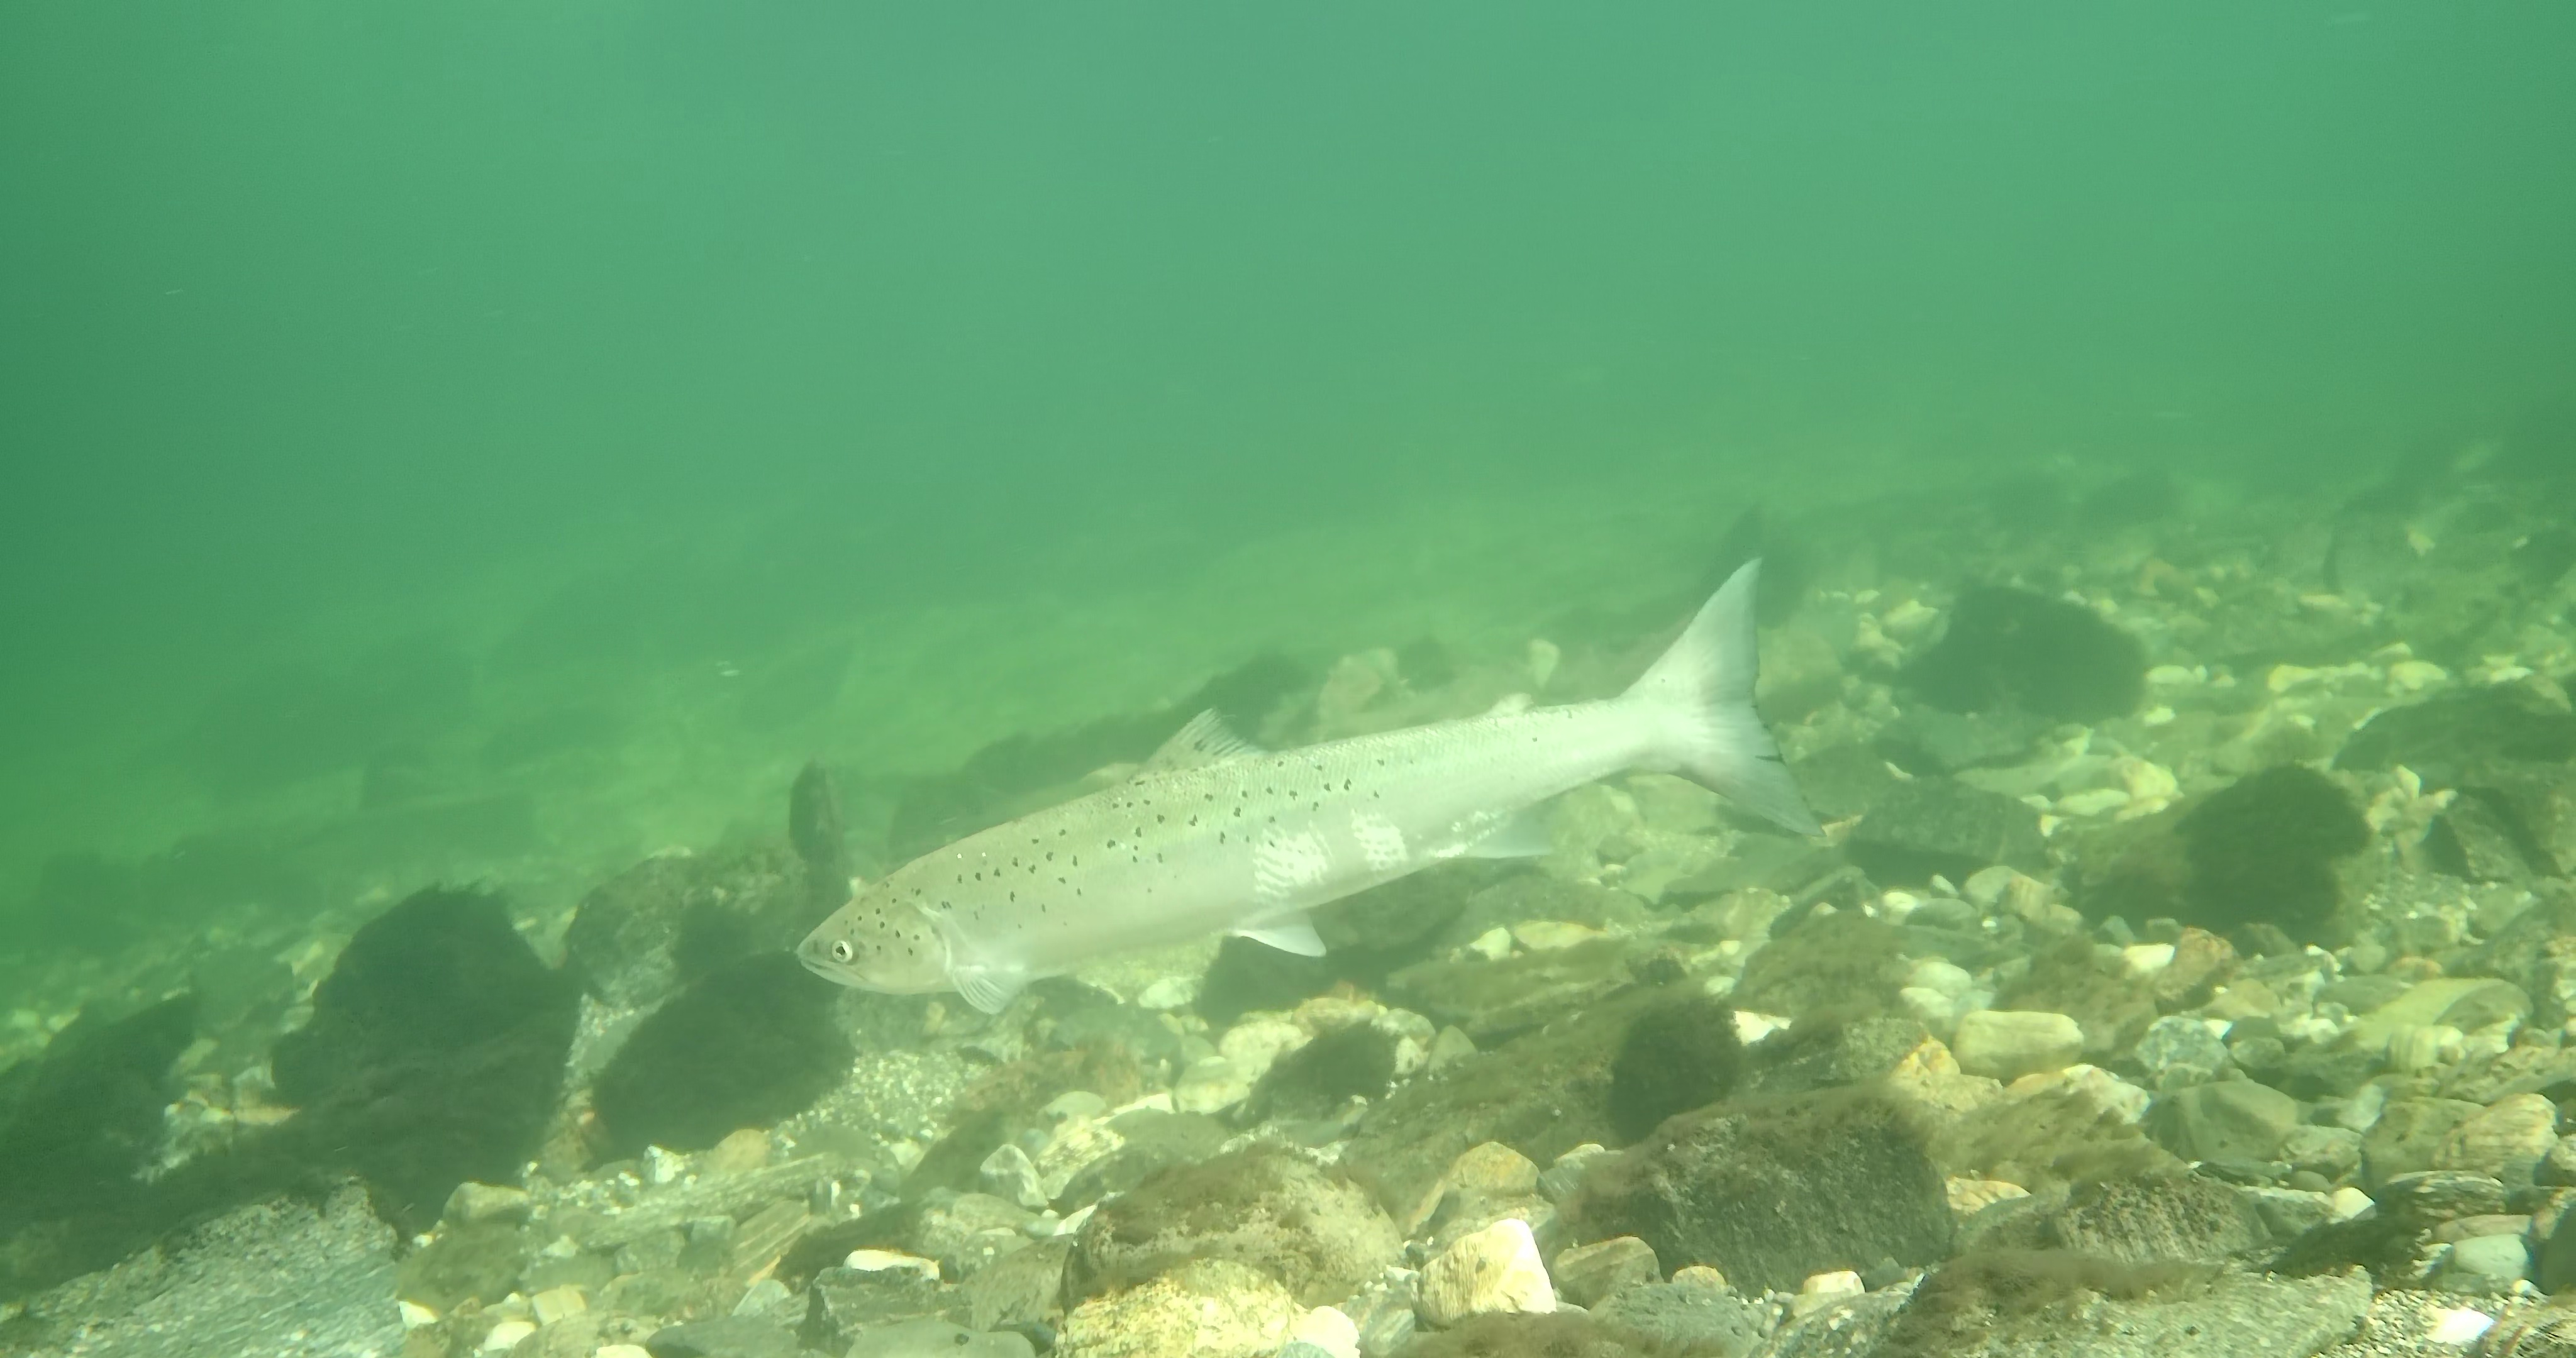salmon: (794, 555, 1831, 1017)
